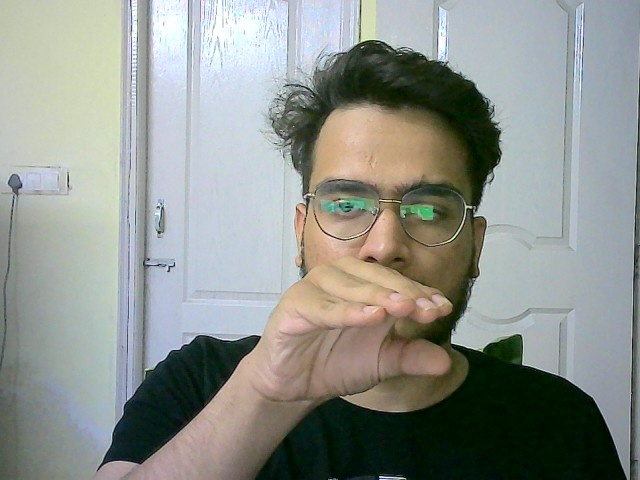No: (255, 251, 458, 396)
